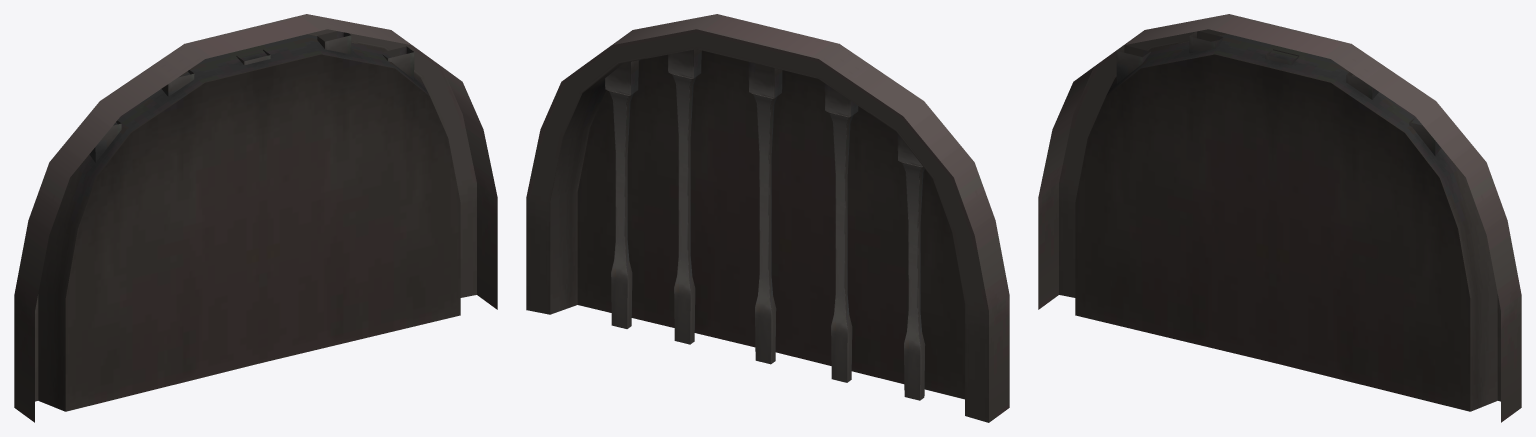
The model's file is OBJ_Sewers_01.obj.
3 renders of one model, left to right at view 1: azimuth 30°, elevation 25°; view 2: azimuth 150°, elevation 25°; view 3: azimuth 330°, elevation 25°, orthographic.
Parts seen in each view (by area): view 1: OBJ_Sewers_01; view 2: OBJ_Sewers_01; view 3: OBJ_Sewers_01.
Boxes of the visible parts, left/top/right/bottom form: OBJ_Sewers_01: left=14, top=14, right=497, bottom=422; OBJ_Sewers_01: left=526, top=14, right=1009, bottom=422; OBJ_Sewers_01: left=1038, top=14, right=1521, bottom=422.
Size of the model in its own units: 3.31 by 2.21 by 0.2582.
Materials: 1 (1 with a texture image).
